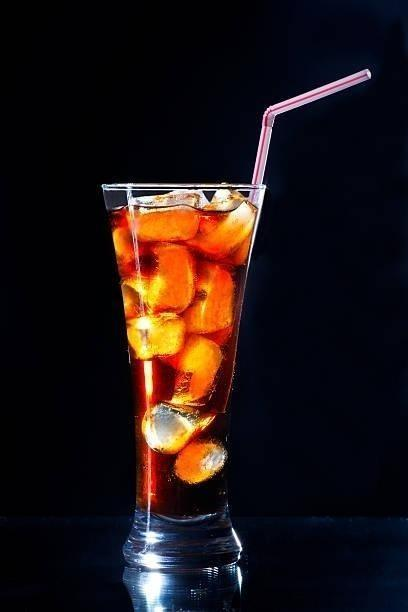glass-normal: (98, 178, 269, 606)
